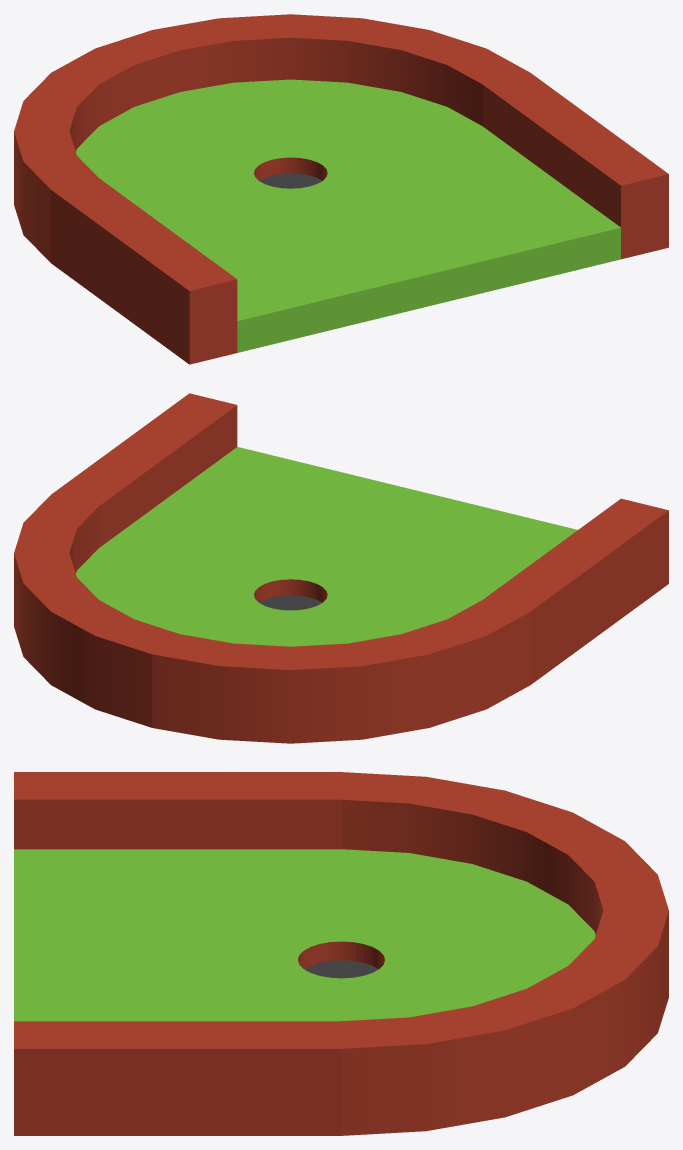
Rendered from Hole_round_01.obj.
3 renders of one model, top to bottom at view 1: azimuth 30°, elevation 25°; view 2: azimuth 150°, elevation 25°; view 3: azimuth 270°, elevation 25°, orthographic. The views are drawn at different scales.
Visible parts, largest first — view 1: Mesh1_Hole_round_Model; view 2: Mesh1_Hole_round_Model; view 3: Mesh1_Hole_round_Model.
Boxes of the visible parts, <box> form: Mesh1_Hole_round_Model: <box>14,14,668,364</box>; Mesh1_Hole_round_Model: <box>14,393,668,743</box>; Mesh1_Hole_round_Model: <box>14,772,668,1135</box>.
Bounding box in the file's own units: 3 × 0.44 × 3.
